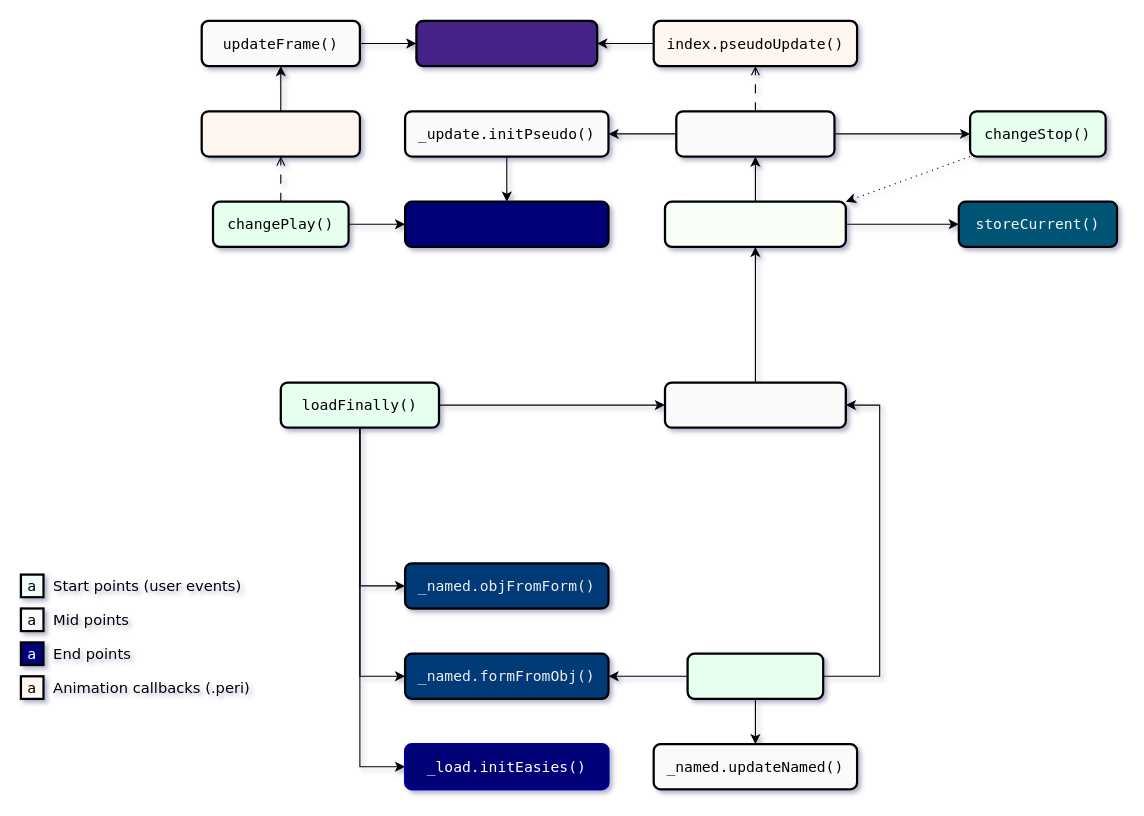
This 1144x816 diagram has some shape labels left out. Each missing label, with the centre of its shape:
"_load.updateAll()" belongs at (x=754, y=404).
"_update.getFrame()" belongs at (x=506, y=43).
"_update.newTargets ()" belongs at (x=506, y=223).
"_update.refresh()" belongs at (x=754, y=223).
"index.update()" belongs at (x=280, y=133).
"openNamed()" belongs at (x=755, y=675).
"pseudoAnimate()" belongs at (x=755, y=133).
